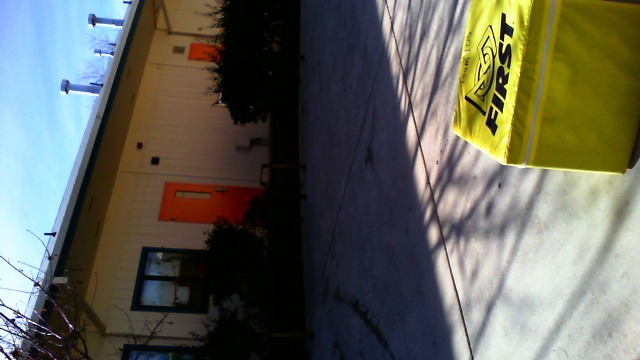cube: (453, 1, 638, 179)
